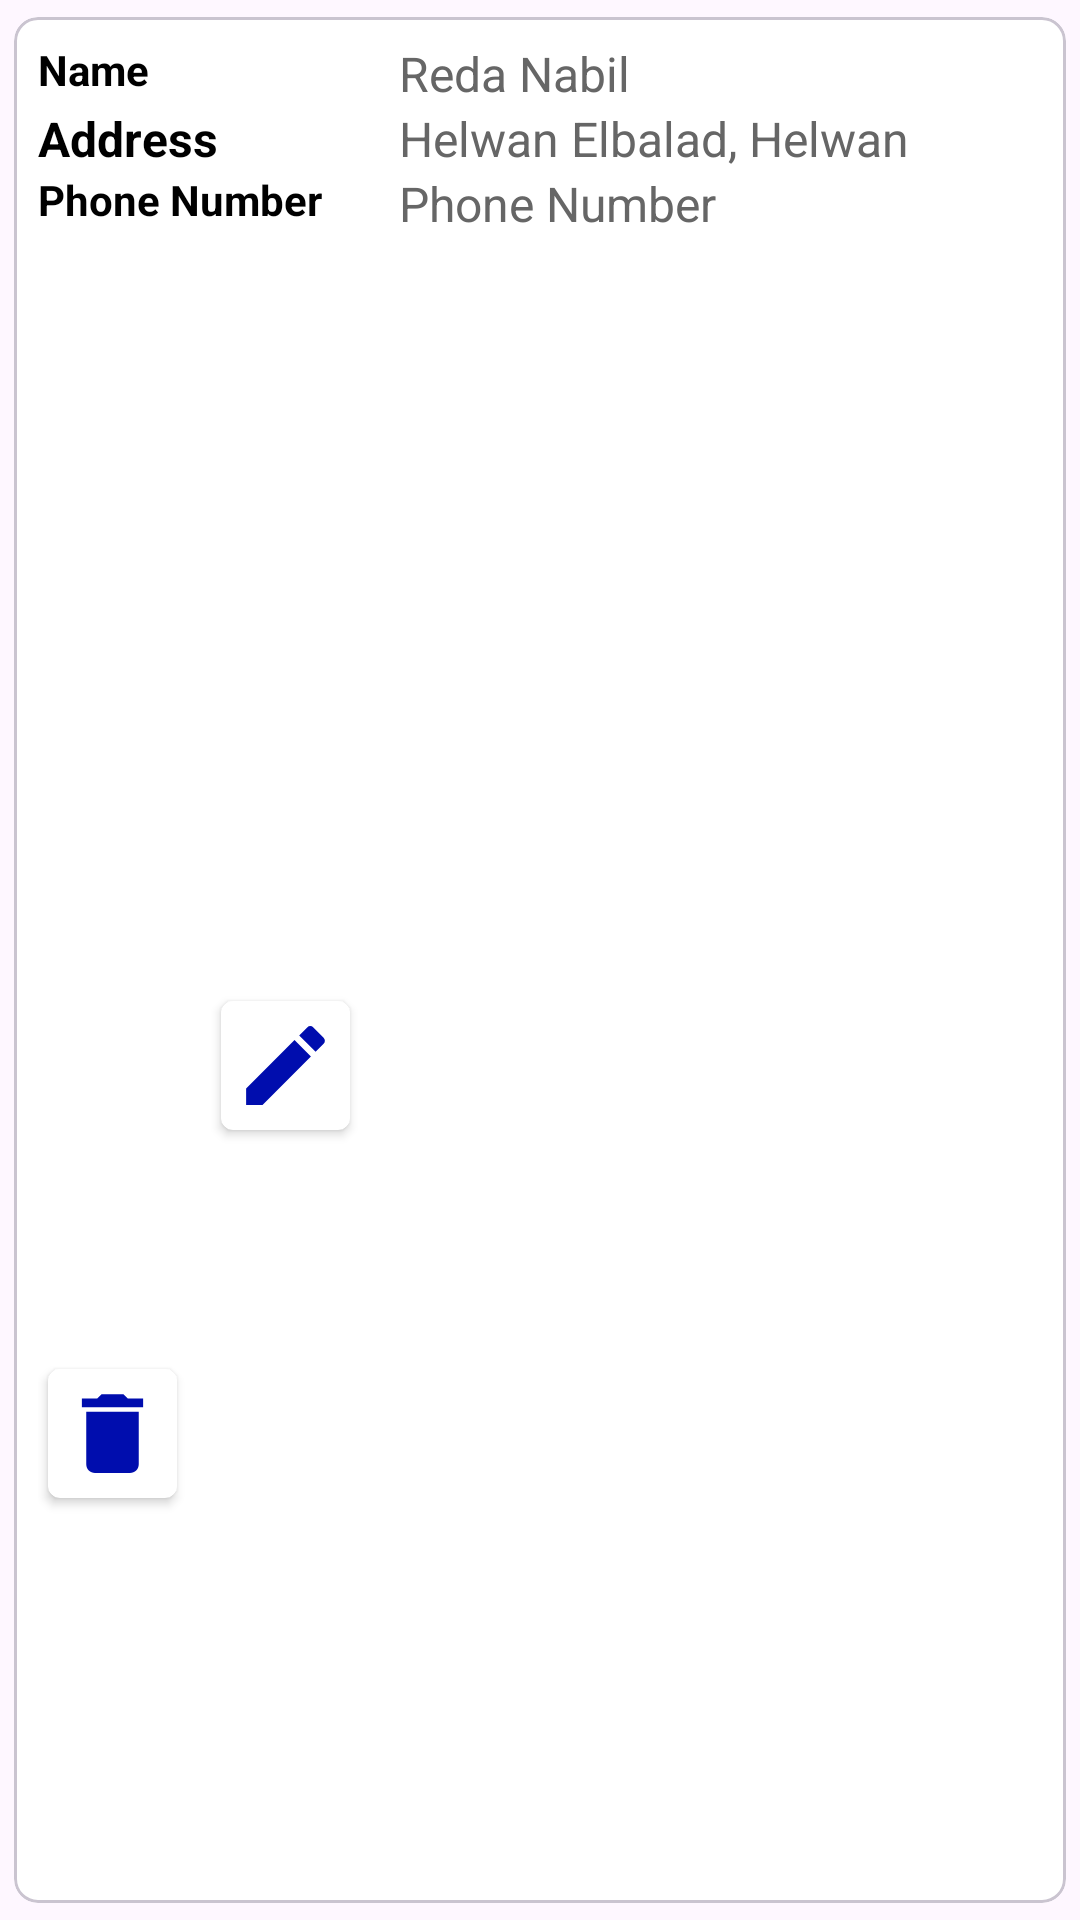

Screen size 1080w x 1920h. Icon name, then its box in pixels as (x1, y1, x2, y2):
delete: (81, 1394, 144, 1473)
edit: (246, 1026, 325, 1105)
